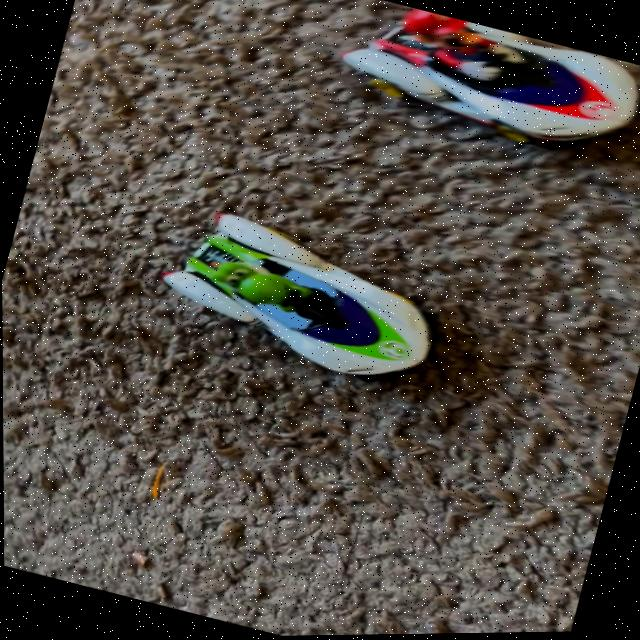yoshi: (106, 168, 481, 423)
